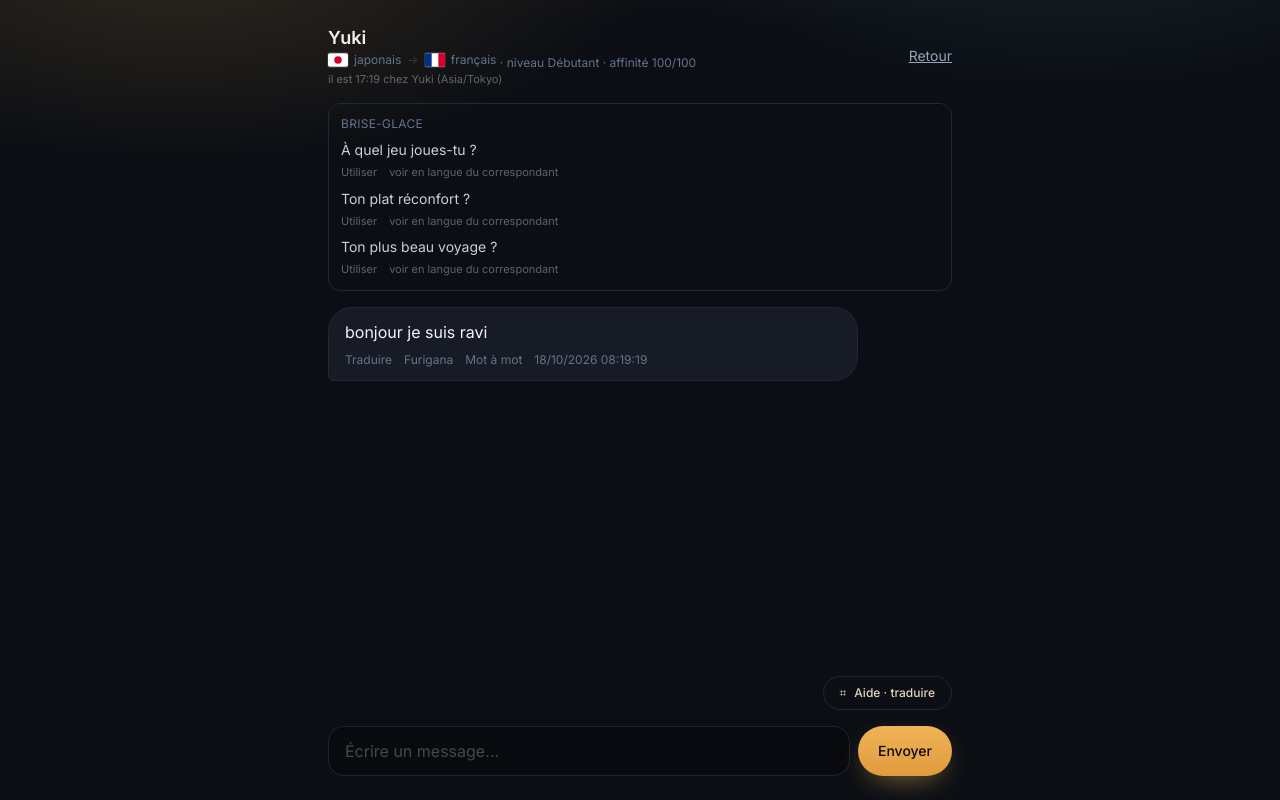
Scenario: Fil de discussion › affiche les icebreakers et les insère dans la zone de saisie
Check: the text "À quel jeu joues-tu ?" is shown, box top-left (341, 141), bottom-right (477, 158)
Click the button "Utiliser" below "À quel jeu joues-tu ?" at point(359, 172), box top-left (341, 164), bottom-right (377, 180)
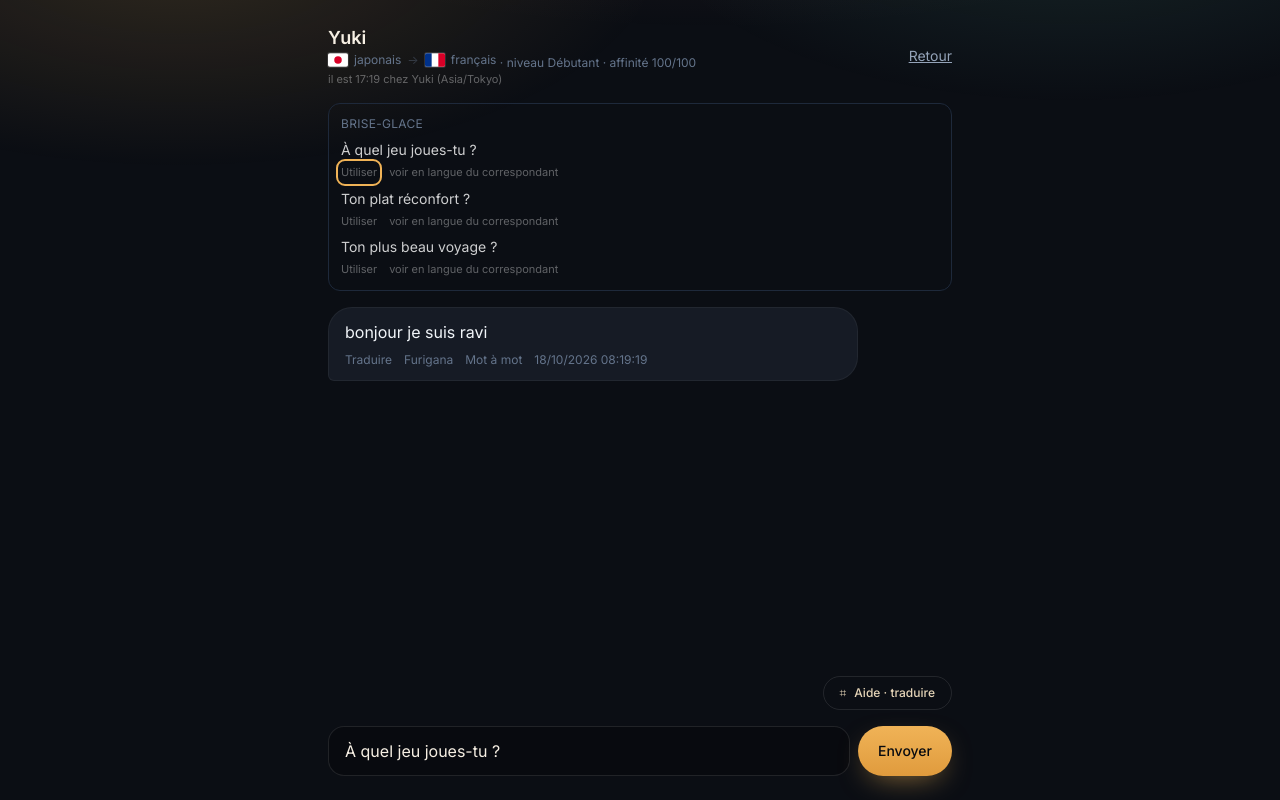
Check: the field with placeholder "Écrire un message…" holds "À quel jeu joues-tu ?", box top-left (328, 726), bottom-right (850, 776)
